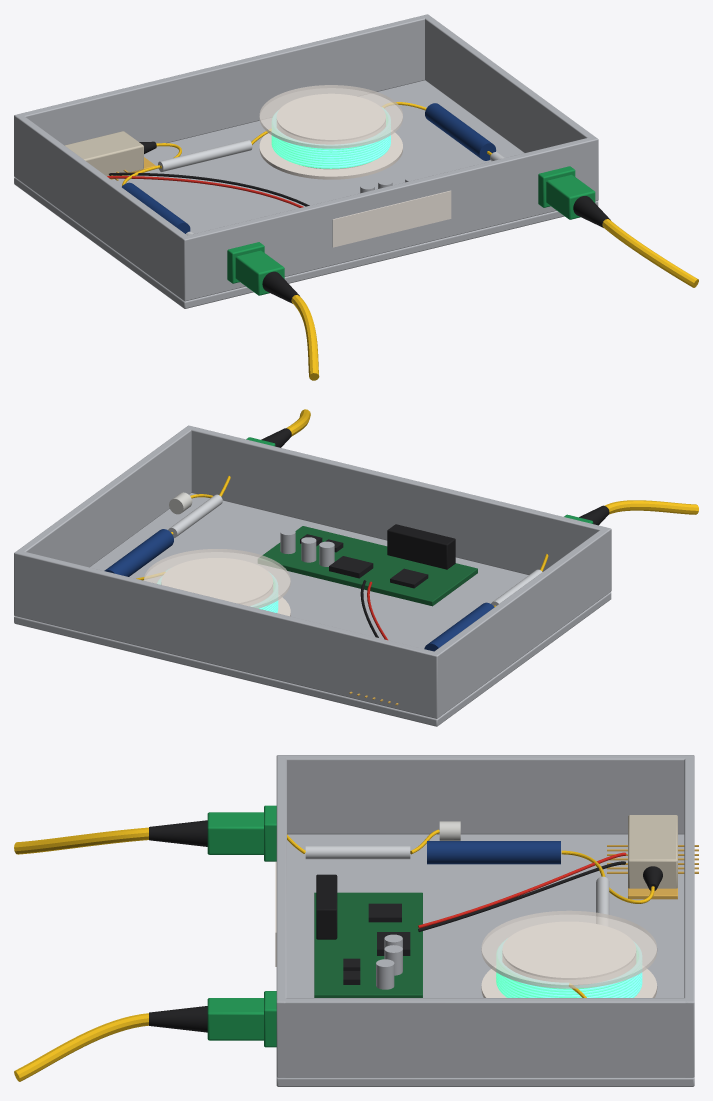
File: edfa.glb
3 renders of one model, top to bottom at view 1: azimuth 30°, elevation 25°; view 2: azimuth 150°, elevation 25°; view 3: azimuth 270°, elevation 25°, orthographic. The views are drawn at different scales.
Parts seen in each view (by area): view 1: boitier_fond, mur_arriere, mur_avant, mur_gauche, mur_droit, bobine_flasque_haut, bobine_moyeu, plaque_marquage, fibre_dopee_erbium, pompe_butterfly, bobine_flasque_bas, isolateur_sortie (+12 smaller); view 2: mur_arriere, mur_avant, boitier_fond, mur_gauche, carte_commande, mur_droit, bobine_flasque_haut, bobine_moyeu, isolateur_sortie, entree_cordon, isolateur_entree, prelevement_sortie; view 3: boitier_fond, mur_droit, mur_gauche, carte_commande, bobine_flasque_haut, bobine_moyeu, pompe_butterfly, mur_arriere, mur_avant, isolateur_entree, fibre_dopee_erbium, entree_fiche (+12 smaller).
Part boxes in pixels (box(x1,y1,x2,y2)): boitier_fond: box(14, 80, 598, 308); mur_arriere: box(14, 14, 430, 178); mur_avant: box(180, 136, 598, 301); mur_gauche: box(14, 115, 190, 300); mur_droit: box(422, 14, 597, 189); bobine_flasque_haut: box(259, 85, 402, 148); bobine_moyeu: box(276, 93, 385, 169); plaque_marquage: box(332, 190, 451, 247); fibre_dopee_erbium: box(271, 107, 390, 168); pompe_butterfly: box(64, 131, 156, 180); bobine_flasque_bas: box(259, 130, 402, 179); isolateur_sortie: box(425, 103, 496, 160); mur_arriere: box(14, 550, 440, 718); mur_avant: box(185, 425, 611, 593); boitier_fond: box(14, 493, 611, 726); mur_gauche: box(430, 527, 611, 718); carte_commande: box(258, 524, 477, 606); mur_droit: box(14, 426, 191, 615); bobine_flasque_haut: box(144, 549, 290, 608); bobine_moyeu: box(161, 558, 273, 605); isolateur_sortie: box(104, 529, 173, 576); entree_cordon: box(604, 500, 698, 514); isolateur_entree: box(424, 602, 494, 651); prelevement_sortie: box(168, 494, 222, 537); boitier_fond: box(276, 834, 694, 1086); mur_droit: box(277, 998, 693, 1077); mur_gauche: box(278, 755, 693, 834); carte_commande: box(314, 874, 422, 997); bobine_flasque_haut: box(481, 910, 657, 988); bobine_moyeu: box(502, 921, 636, 984); pompe_butterfly: box(607, 815, 698, 899); mur_arriere: box(684, 755, 694, 1077); mur_avant: box(276, 755, 286, 1077); isolateur_entree: box(427, 841, 560, 864); fibre_dopee_erbium: box(496, 939, 642, 997); entree_fiche: box(207, 812, 263, 854).
Size of the model in its own units: 140 by 22.5 by 164.
